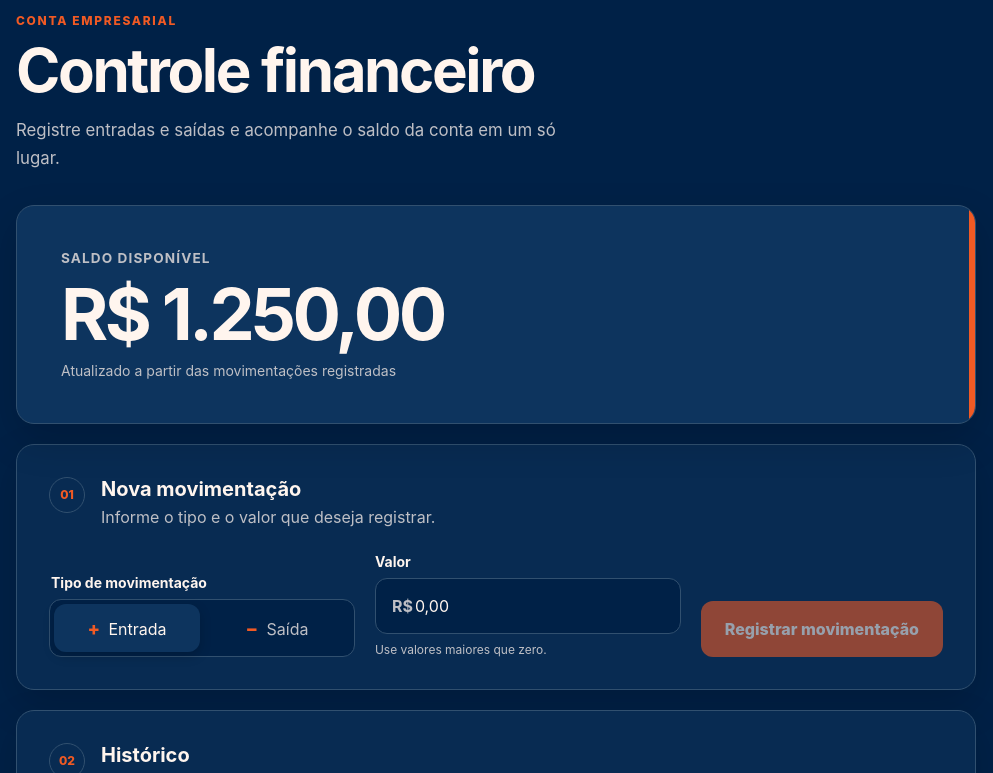
App › maps operation failures to accessible feedback
Check: the text "R$ 1.250,00" is shown, box [61,270,444,357]
Step 1. Type "1000" into the field labelled "Valor" → (546, 606), box [413,595,680,617]
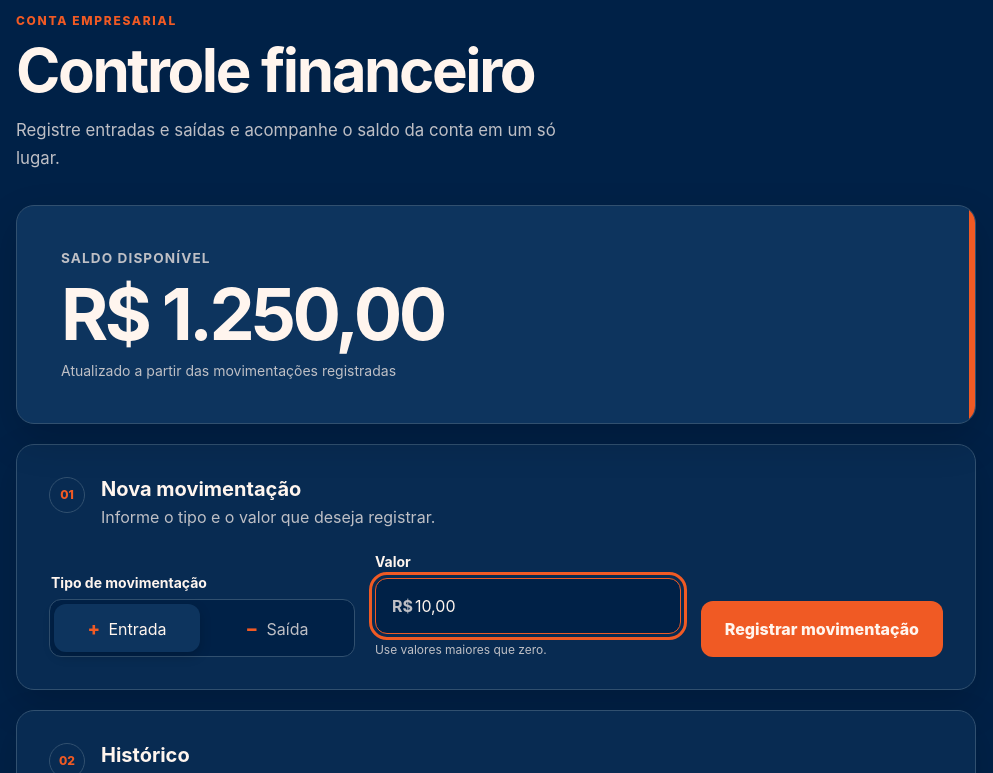
Step 2. Click the button "Registrar movimentação" → (822, 629), box [701,601,943,657]
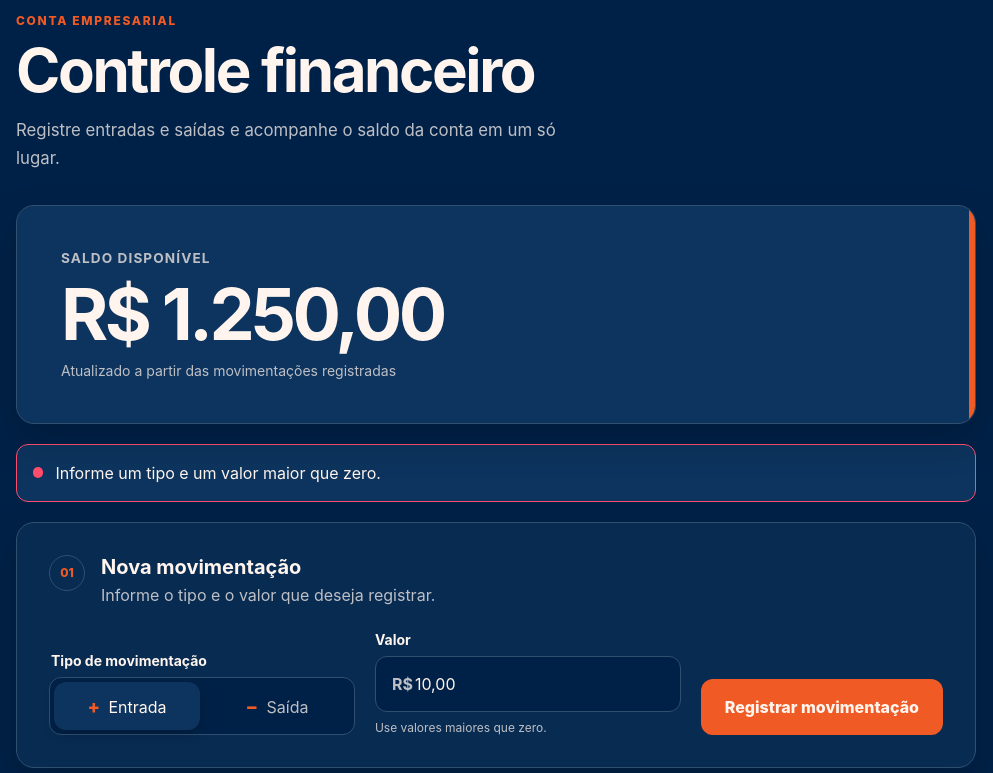
Check: the message reads "Informe um tipo e um valor maior que zero.", box [55,463,381,483]
